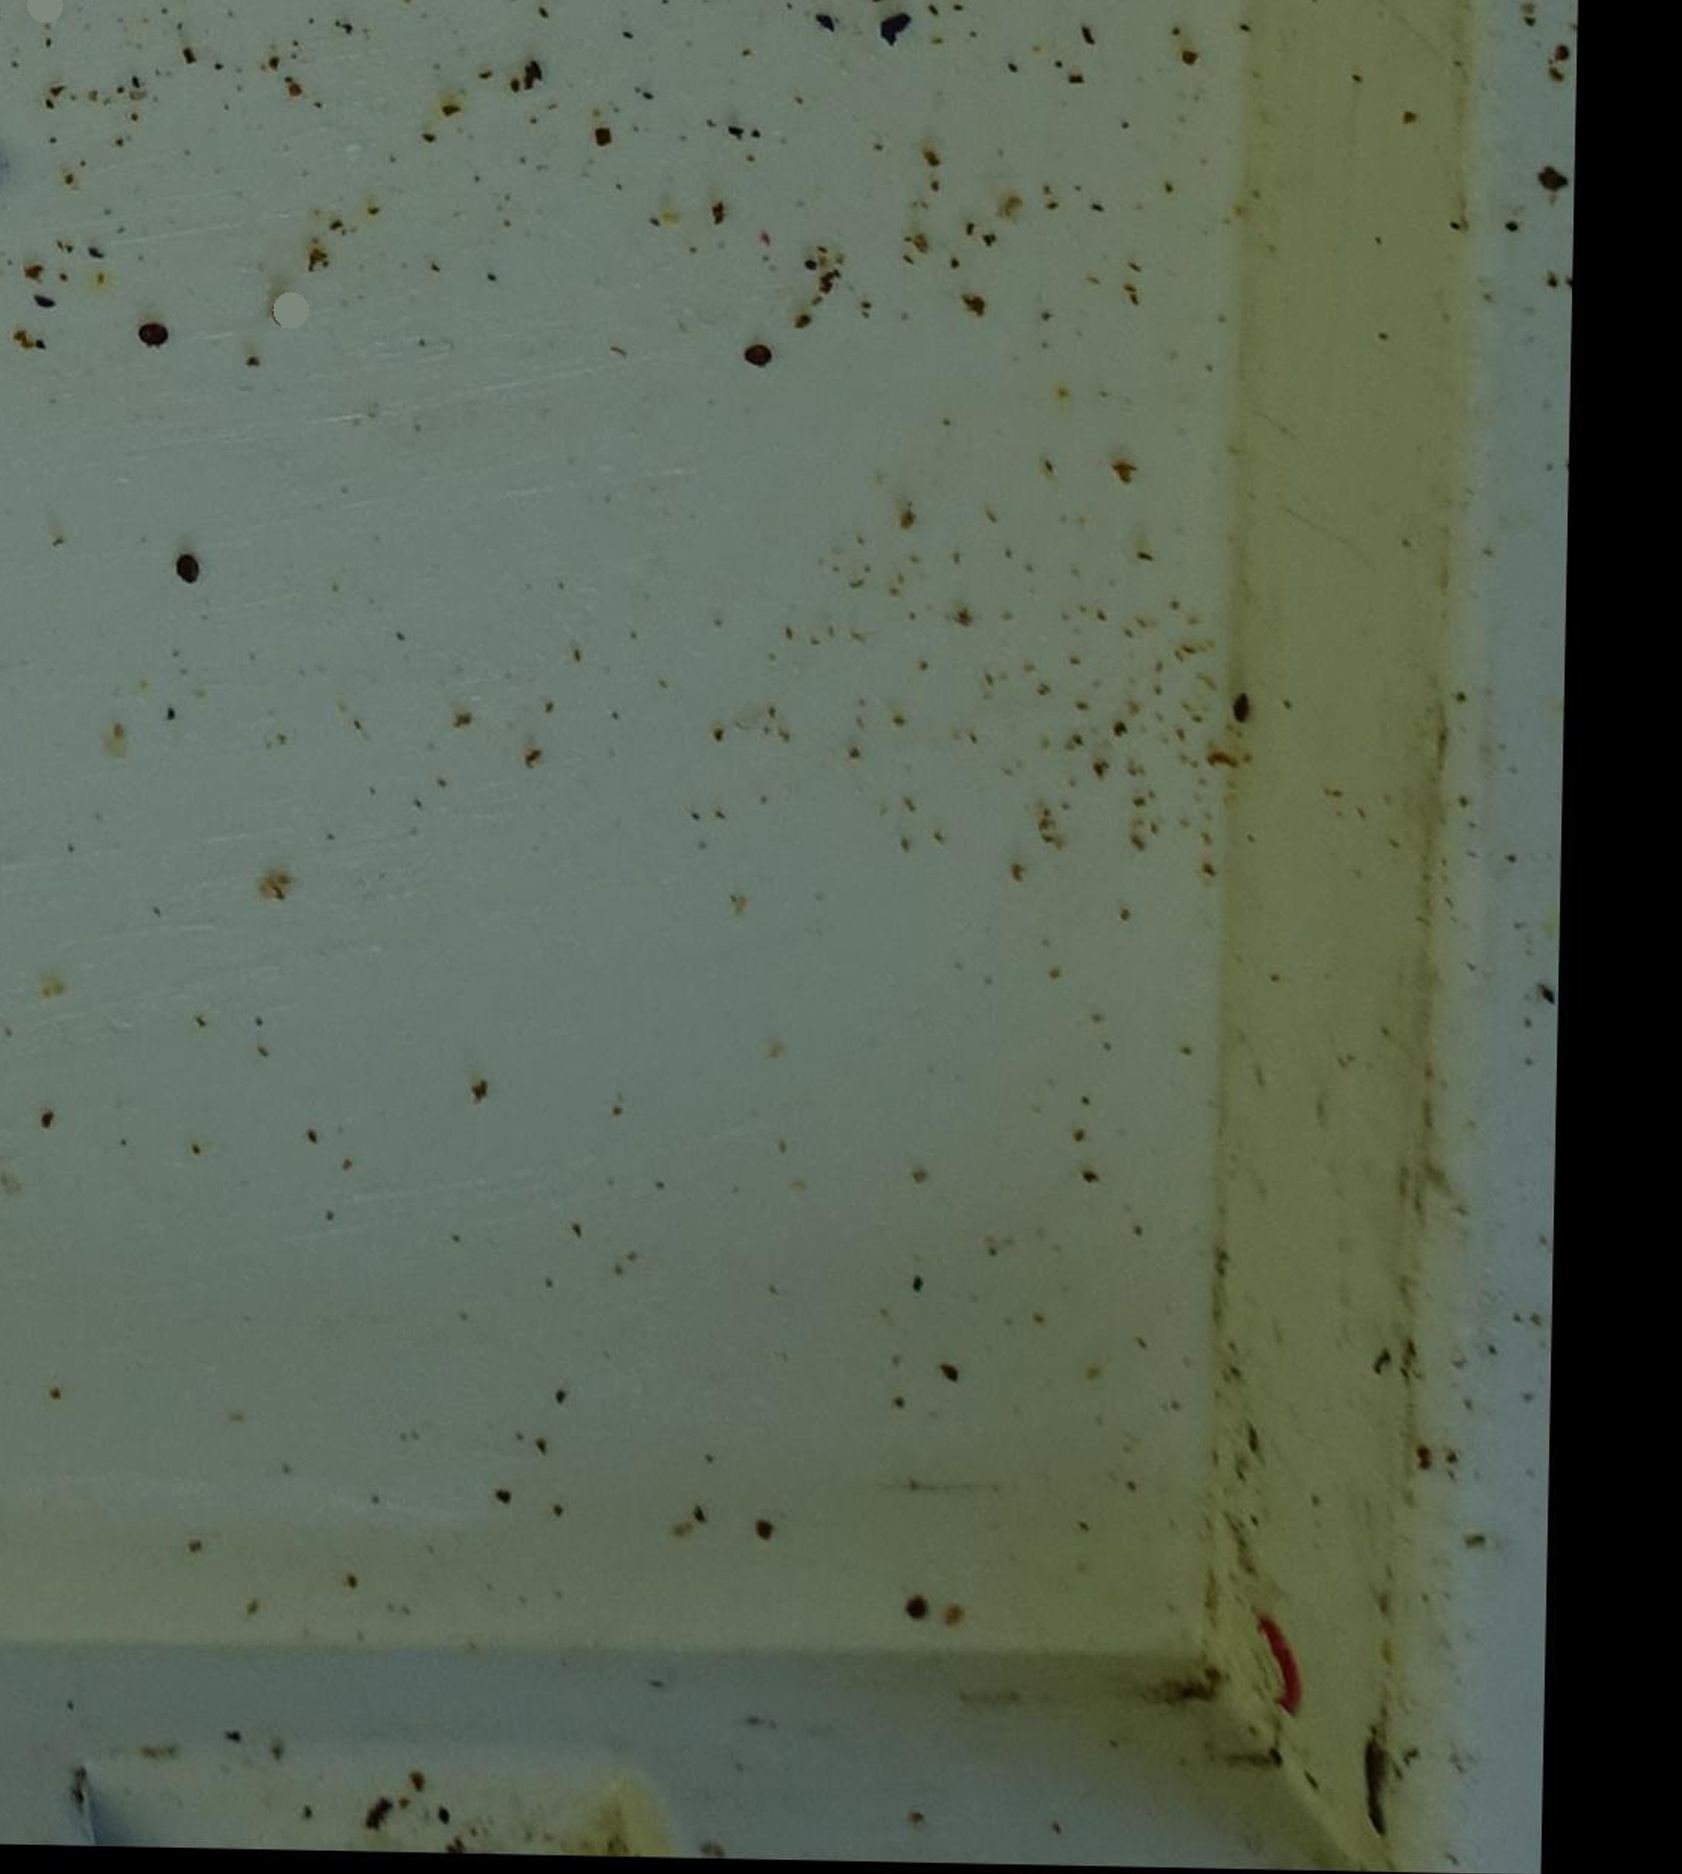Varroa: (180, 554, 203, 578), (144, 322, 167, 343), (750, 348, 771, 369)
